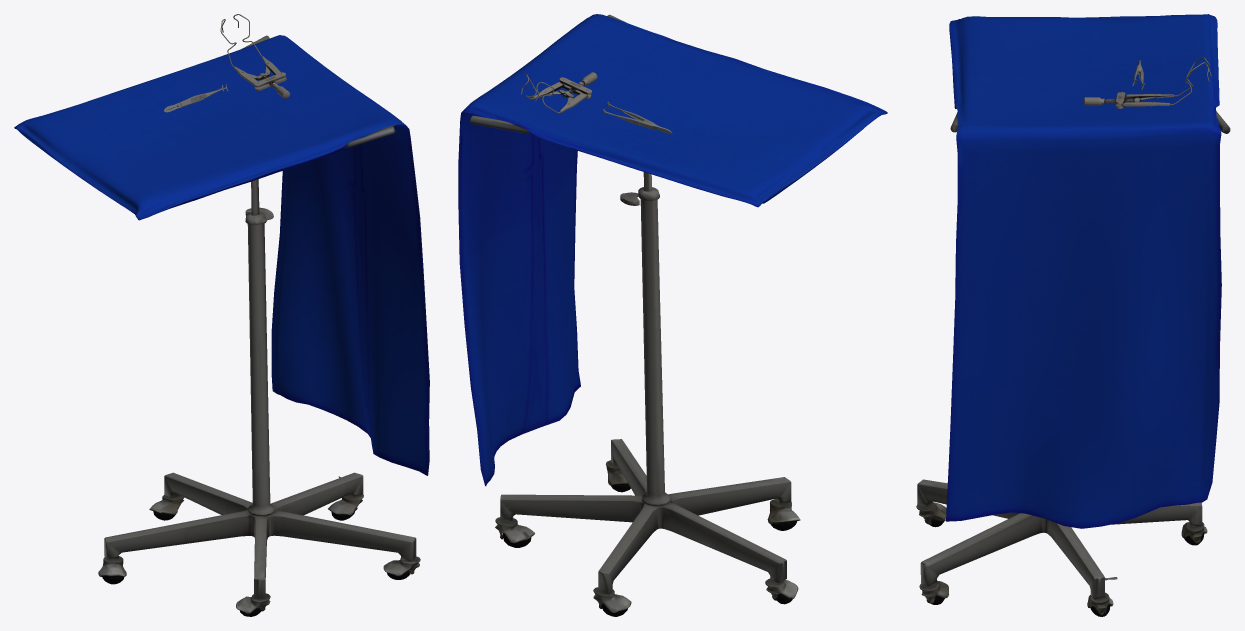
Rendered from Prueba_12.glb.
The picture shows the model from 3 angles, left to right: view 1: azimuth 30°, elevation 25°; view 2: azimuth 150°, elevation 25°; view 3: azimuth 270°, elevation 25°; orthographic projection. The views are drawn at different scales.
Visible parts, largest first — view 1: f1b89261_b7f4_436a_9699_bbb45ed431e4, tripo_86f46718_43c0_4911_b705_7fa8cf1c9a43; view 2: f1b89261_b7f4_436a_9699_bbb45ed431e4, tripo_86f46718_43c0_4911_b705_7fa8cf1c9a43; view 3: f1b89261_b7f4_436a_9699_bbb45ed431e4, tripo_86f46718_43c0_4911_b705_7fa8cf1c9a43.
Part boxes in pixels (x1=…): f1b89261_b7f4_436a_9699_bbb45ed431e4: x1=14, y1=35, x2=429, y2=616; tripo_86f46718_43c0_4911_b705_7fa8cf1c9a43: x1=220, y1=14, x2=289, y2=98; f1b89261_b7f4_436a_9699_bbb45ed431e4: x1=458, y1=14, x2=887, y2=616; tripo_86f46718_43c0_4911_b705_7fa8cf1c9a43: x1=521, y1=72, x2=597, y2=113; f1b89261_b7f4_436a_9699_bbb45ed431e4: x1=916, y1=14, x2=1230, y2=616; tripo_86f46718_43c0_4911_b705_7fa8cf1c9a43: x1=1084, y1=57, x2=1211, y2=108.
Bounding box in the file's own units: 0.3583 × 0.5607 × 0.3054.
3 materials, 3 textured.
